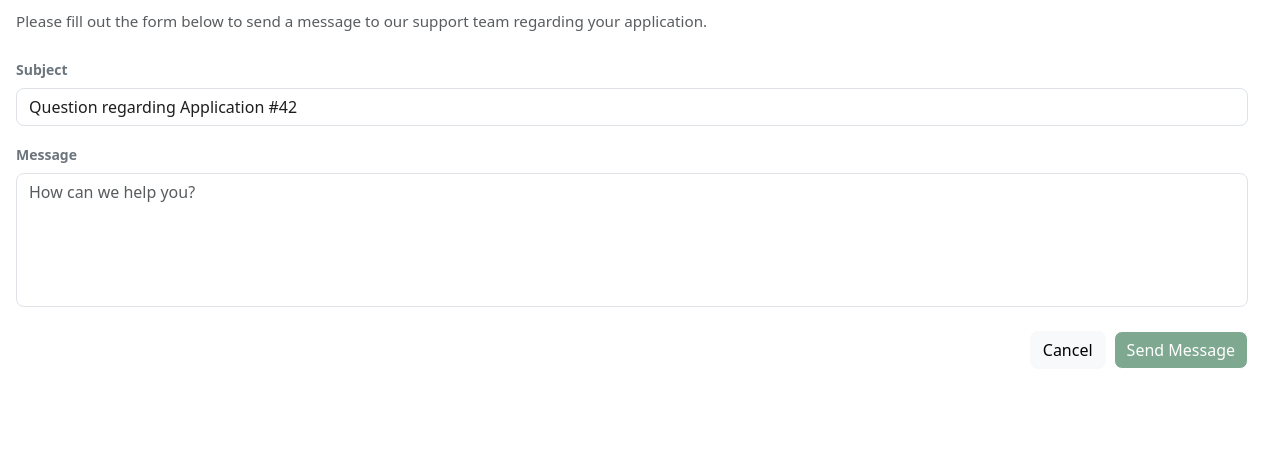
Scenario: ContactModalBody › "Failed to send message." shown for non-Error rejections
Type "Help me" into the text box labelled "Message".
click(632, 240); type("Help me")  # box left=16, top=173, right=1248, bottom=307
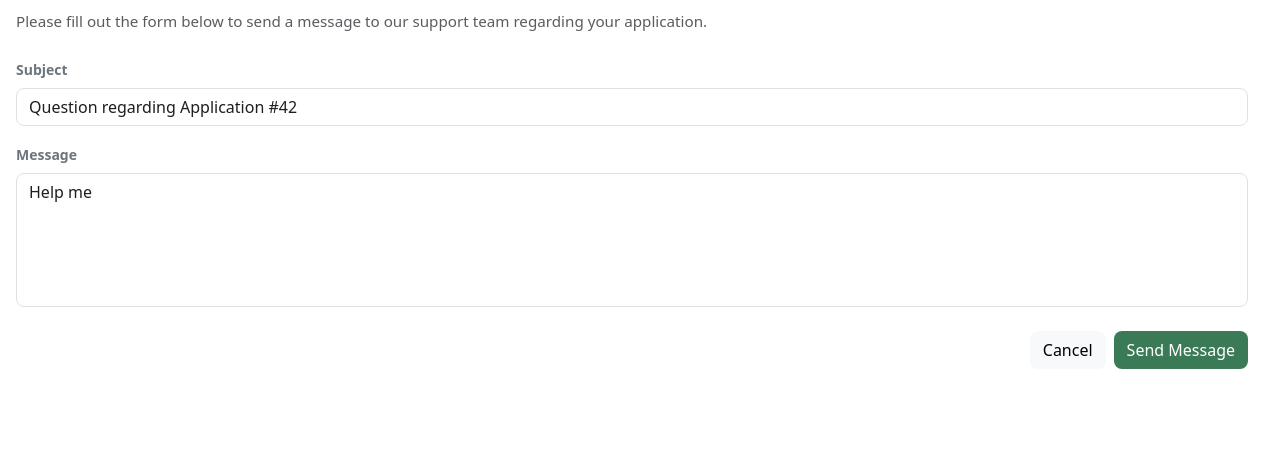
Click the button "Send Message".
click(1181, 350)  # box left=1114, top=331, right=1248, bottom=369
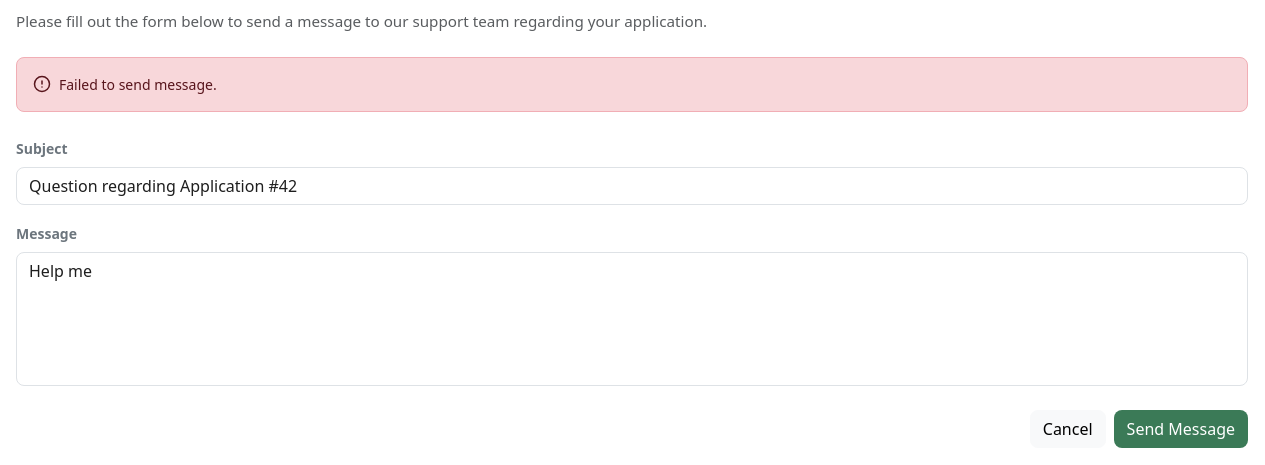
Now the text "Failed to send message." is shown, box left=59, top=74, right=217, bottom=95
